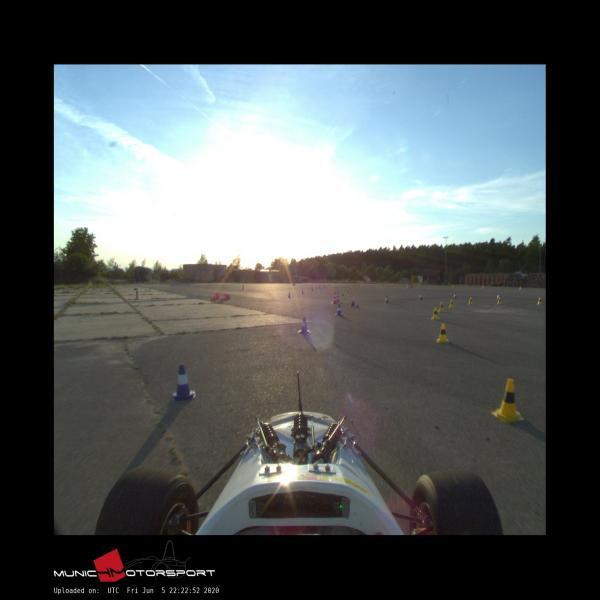blue_cone: (172, 363, 196, 400), (298, 317, 310, 334), (336, 304, 342, 316), (351, 301, 359, 307)
large_orange_cone: (332, 292, 337, 304), (337, 292, 340, 302)
yellow_cone: (491, 379, 524, 422), (437, 323, 449, 343), (432, 308, 439, 320), (438, 302, 444, 312), (449, 299, 454, 308)
